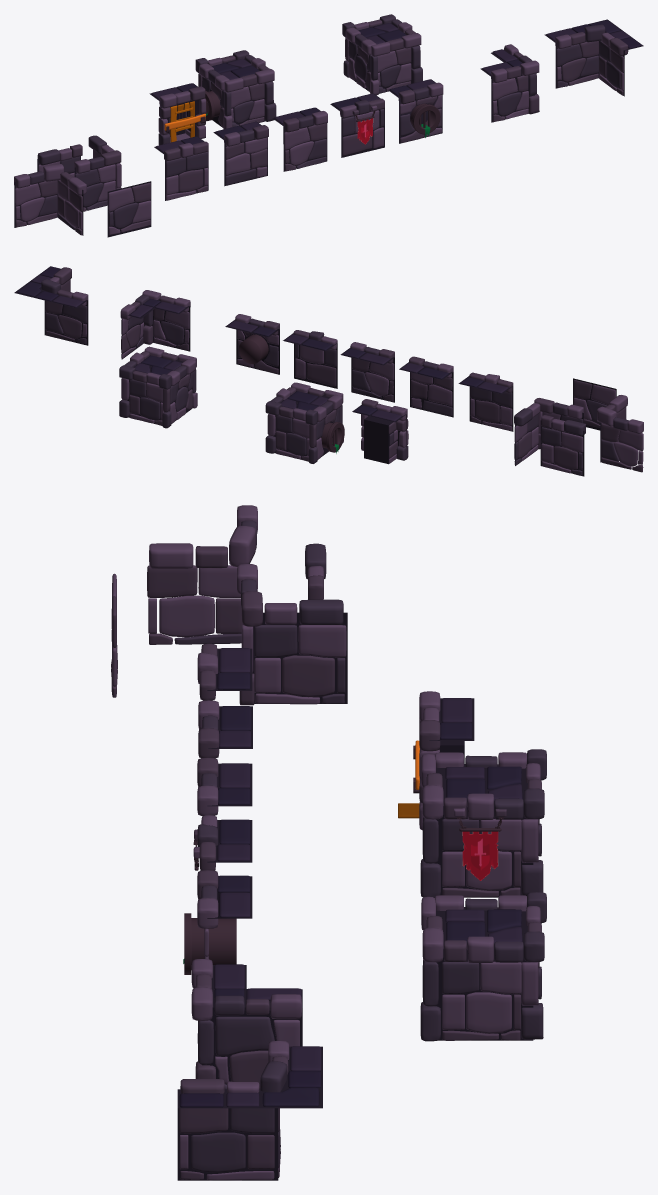
File: MDL_Walls.fbx
3 renders of one model, top to bottom at view 1: azimuth 30°, elevation 25°; view 2: azimuth 150°, elevation 25°; view 3: azimuth 270°, elevation 25°, orthographic. The views are drawn at different scales.
Visible parts, largest first — view 1: MDL_Pillar_01, MDL_Pillar_02, MDL_Wall_In, MDL_Hole_In, MDL_Wall_Out, MDL_Wall_03, MDL_Wall_05, MDL_Wall_01, MDL_Wall_02, MDL_Wall_04, MDL_Hole_Out, MDL_Wall_06 (+3 smaller); view 2: MDL_Pillar_02, MDL_Pillar_01, MDL_Wall_Out, MDL_Wall_In, MDl_Wall_Door, MDL_Hole_In, MDL_Hole, MDL_Wall_01, MDL_Wall_02, MDL_Wall_05, MDL_Wall_03, MDL_Wall_04 (+2 smaller); view 3: MDL_Pillar_01, MDL_Pillar_02, MDL_Wall_In, MDL_Hole_Out, MDL_Hole_In, MDL_Wall_Out, MDL_Wall_05, MDl_Wall_Door, MDL_Wall_04, MDL_Wall_03, MDL_Wall_02, MDL_Wall_01 (+1 smaller).
Boxes of the visible parts, <box> form: MDL_Pillar_01: <box>342,14,422,95</box>; MDL_Pillar_02: <box>195,50,276,129</box>; MDL_Wall_In: <box>544,19,643,96</box>; MDL_Hole_In: <box>14,164,86,235</box>; MDL_Wall_Out: <box>480,44,539,122</box>; MDL_Wall_03: <box>272,107,327,171</box>; MDL_Wall_05: <box>388,79,443,143</box>; MDL_Wall_01: <box>154,136,208,200</box>; MDL_Wall_02: <box>213,121,268,186</box>; MDL_Wall_04: <box>330,93,384,157</box>; MDL_Hole_Out: <box>74,135,121,211</box>; MDL_Wall_06: <box>107,181,151,237</box>; MDL_Pillar_02: <box>265,382,344,463</box>; MDL_Pillar_01: <box>119,346,197,428</box>; MDL_Wall_Out: <box>120,290,190,359</box>; MDL_Wall_In: <box>14,266,88,345</box>; MDl_Wall_Door: <box>352,399,408,464</box>; MDL_Hole_In: <box>597,395,643,472</box>; MDL_Hole: <box>540,415,585,476</box>; MDL_Wall_01: <box>458,372,513,431</box>; MDL_Wall_02: <box>399,356,453,417</box>; MDL_Wall_05: <box>225,314,279,374</box>; MDL_Wall_03: <box>340,342,394,402</box>; MDL_Wall_04: <box>283,330,337,388</box>; MDL_Pillar_01: <box>420,892,546,1041</box>; MDL_Pillar_02: <box>420,749,546,897</box>; MDL_Wall_In: <box>177,1040,322,1180</box>; MDL_Hole_Out: <box>237,564,347,705</box>; MDL_Hole_In: <box>147,505,257,644</box>; MDL_Wall_Out: <box>191,959,302,1089</box>; MDL_Wall_05: <box>183,870,252,974</box>; MDl_Wall_Door: <box>413,691,474,830</box>; MDL_Wall_04: <box>193,815,252,870</box>; MDL_Wall_03: <box>197,757,252,816</box>; MDL_Wall_02: <box>198,700,252,758</box>; MDL_Wall_01: <box>197,643,252,700</box>.
Bounding box in the file's own units: 28.01 × 2.36 × 8.66.
